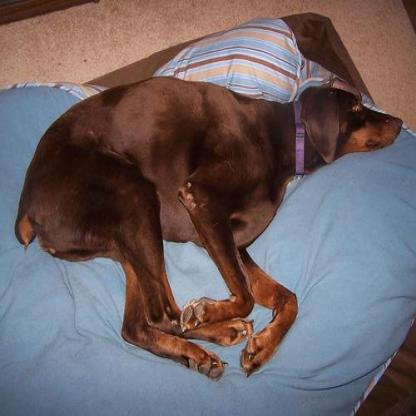Doberman: (14, 74, 404, 376)
